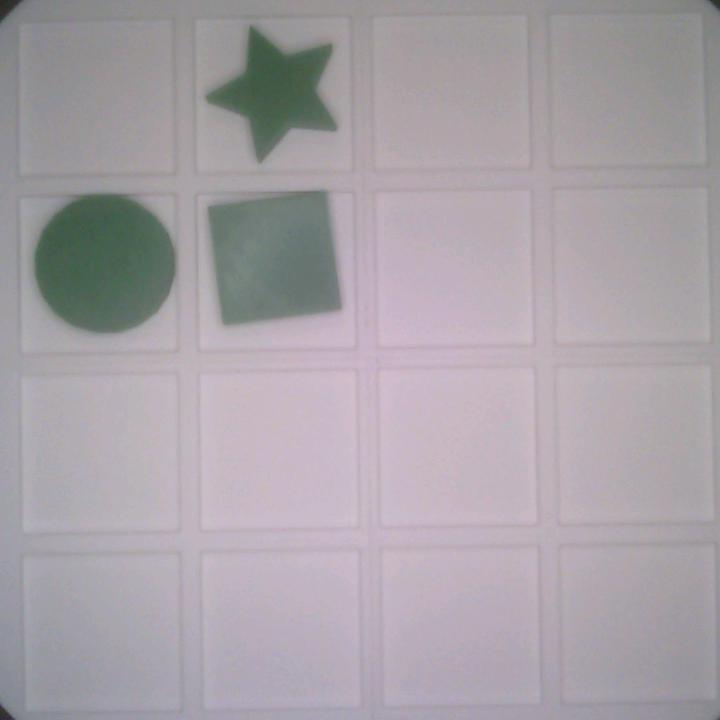Green circle: (31, 190, 181, 336)
Green square: (202, 192, 347, 329)
Green star: (202, 26, 347, 162)
